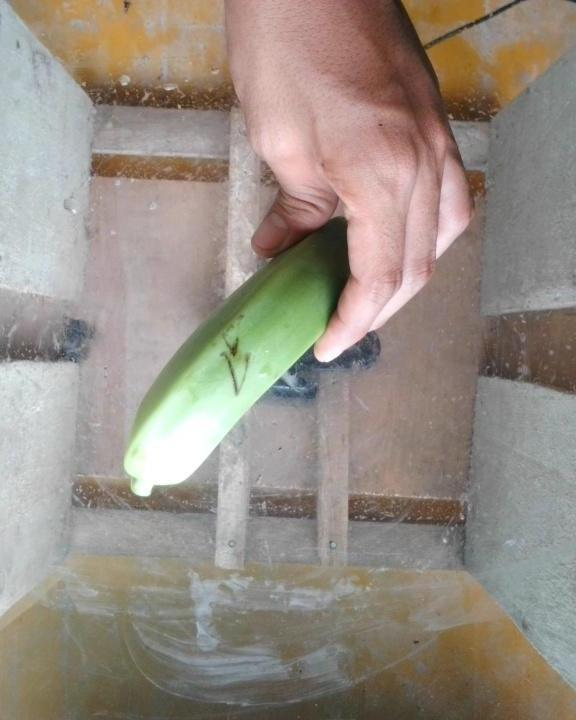CLASS B: (118, 205, 363, 506)
Class A: (219, 322, 261, 404)
